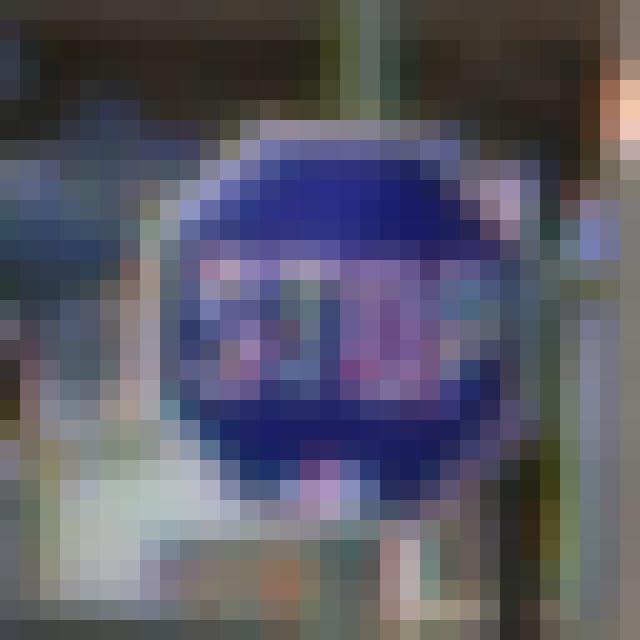STOP: (164, 128, 544, 526)
